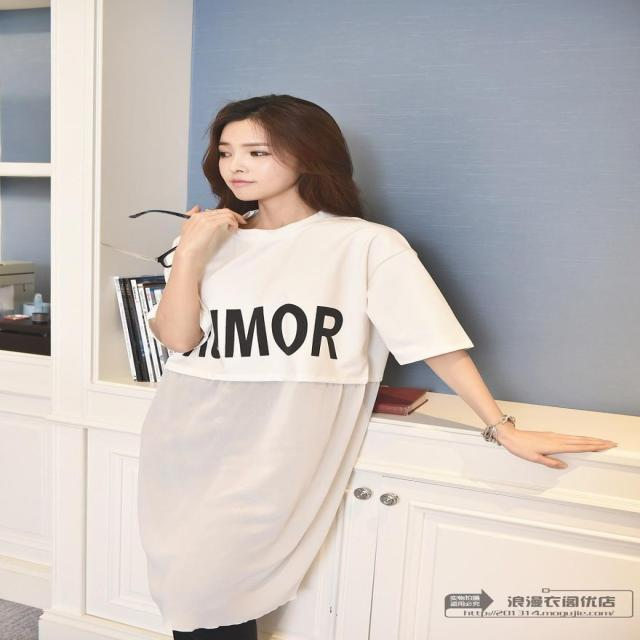short-sleeve-top: (104, 205, 474, 608)
